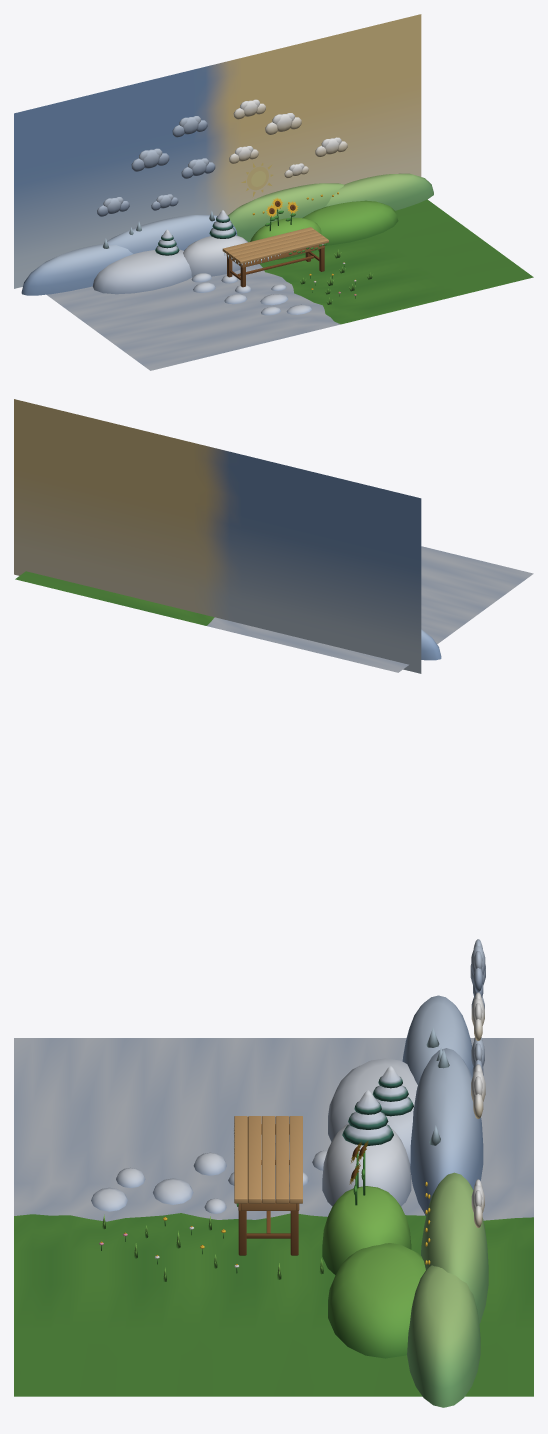
The model's file is place_frost.glb.
3 views of the same model, one above another, from view 1: azimuth 30°, elevation 25°; view 2: azimuth 150°, elevation 25°; view 3: azimuth 270°, elevation 25° (orthographic). The views are drawn at different scales.
Visible parts, largest first — view 1: back, yard, table, cloudsC, cloudsW; view 2: back, yard; view 3: yard, back, table, cloudsW, cloudsC.
Boxes of the visible parts, x1=… form: back: x1=14, y1=14, x2=433, y2=295; yard: x1=46, y1=199, x2=533, y2=370; table: x1=221, y1=227, x2=328, y2=293; cloudsC: x1=97, y1=116, x2=215, y2=216; cloudsW: x1=229, y1=99, x2=347, y2=178; back: x1=14, y1=399, x2=441, y2=673; yard: x1=15, y1=546, x2=533, y2=672; yard: x1=14, y1=1038, x2=533, y2=1396; back: x1=402, y1=995, x2=488, y2=1407; table: x1=228, y1=1116, x2=308, y2=1255; cloudsW: x1=471, y1=992, x2=485, y2=1227; cloudsC: x1=470, y1=939, x2=485, y2=1076.
Bounding box in the file's own units: 34.5 × 14 × 19.6.
